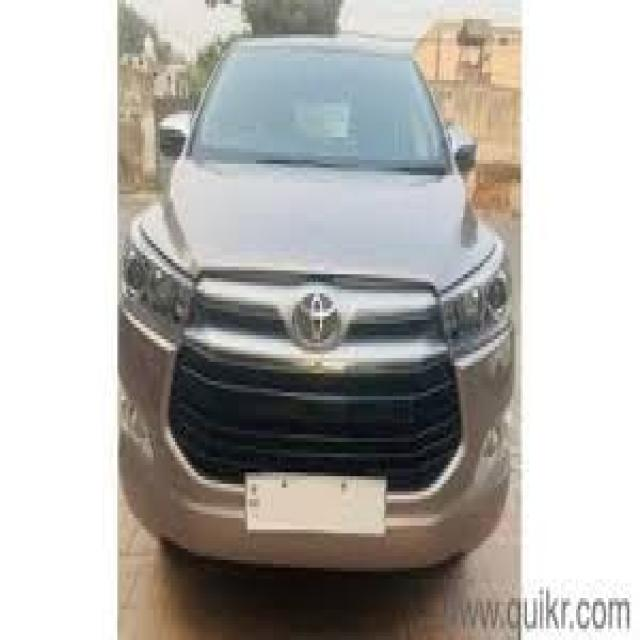light_vehicle: (119, 37, 516, 570)
